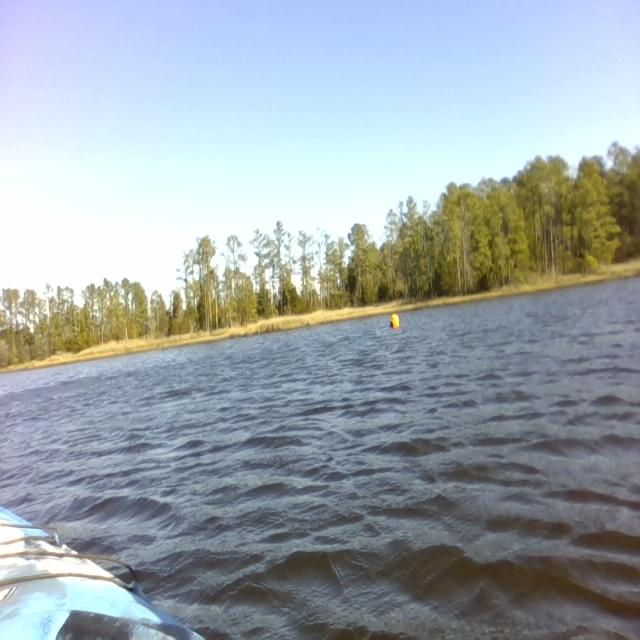Buoy: (386, 310, 406, 336)
